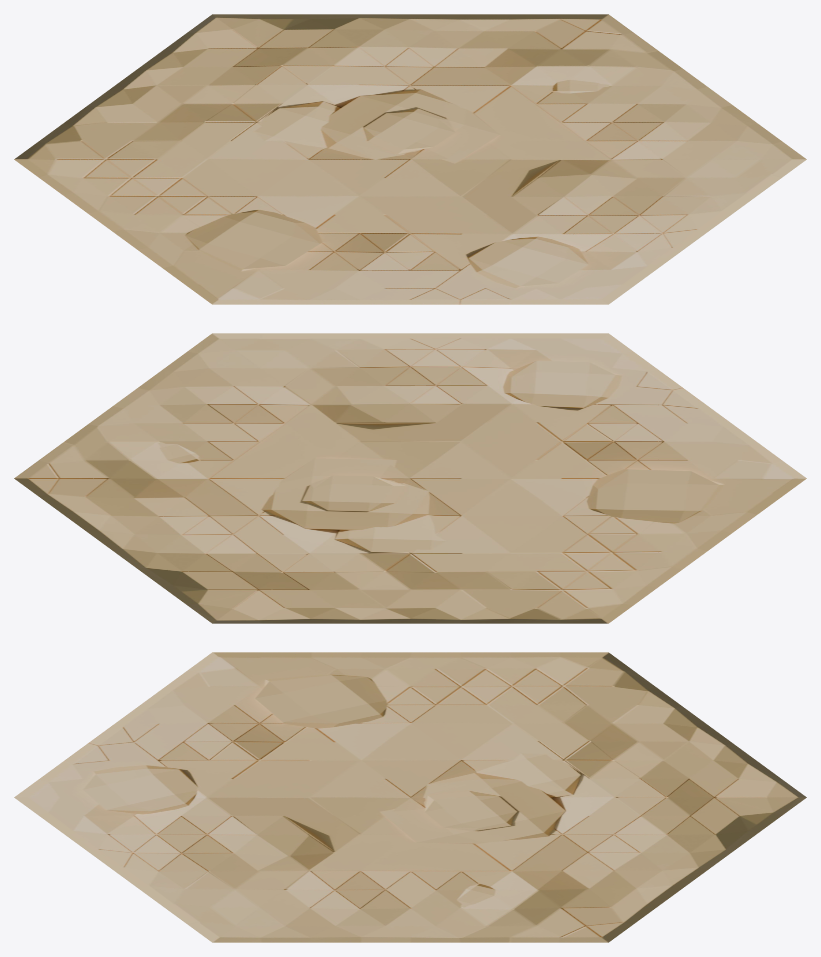
Rendered from bare.glb.
The picture shows the model from 3 angles, top to bottom: view 1: azimuth 30°, elevation 25°; view 2: azimuth 150°, elevation 25°; view 3: azimuth 270°, elevation 25°; orthographic projection.
Visible parts, largest first — view 1: Deciduousforest_flat; view 2: Deciduousforest_flat; view 3: Deciduousforest_flat.
Part boxes in pixels (x1,y1,x2,y2): Deciduousforest_flat: (14, 14, 806, 304); Deciduousforest_flat: (14, 333, 806, 623); Deciduousforest_flat: (14, 652, 806, 942).
Bounding box in the file's own units: 1.73 × 0 × 2.
1 material, 1 textured.
